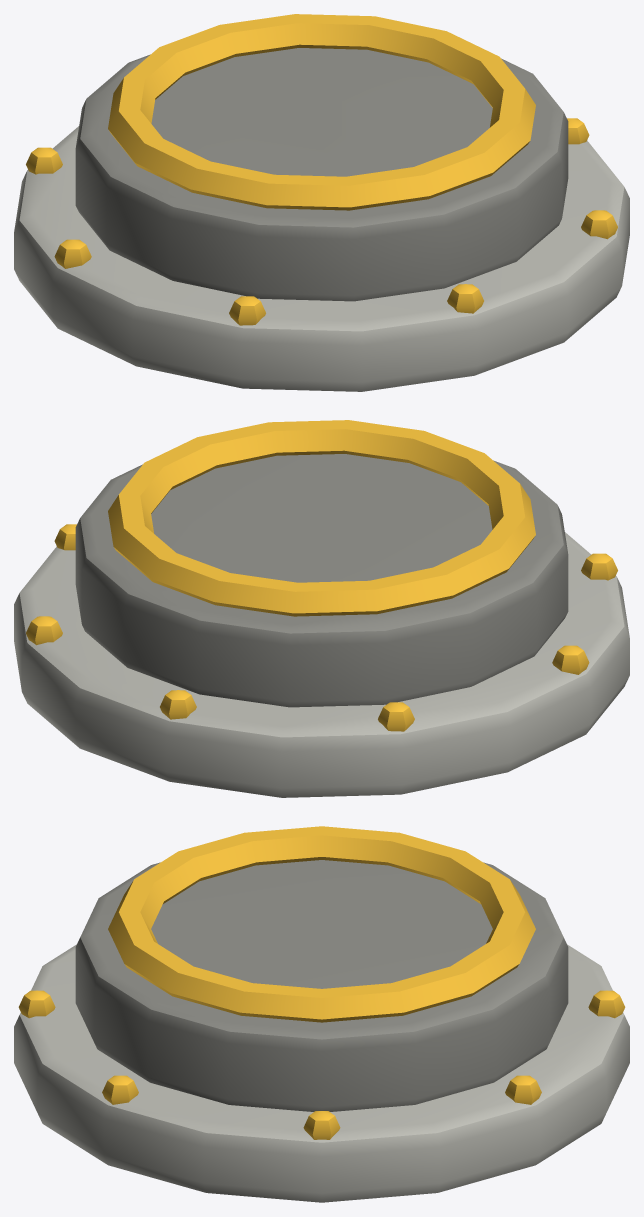
File: EggStand.fbx
3 renders of one model, top to bottom at view 1: azimuth 30°, elevation 25°; view 2: azimuth 150°, elevation 25°; view 3: azimuth 270°, elevation 25°, orthographic.
Parts seen in each view (by area): view 1: EggStand; view 2: EggStand; view 3: EggStand.
Boxes of the visible parts, <box> form: EggStand: <box>14,14,629,391</box>; EggStand: <box>14,420,629,797</box>; EggStand: <box>14,826,629,1202</box>.
Size of the model in its own units: 4 by 1.2 by 4.
Materials: 1 (1 with a texture image).
